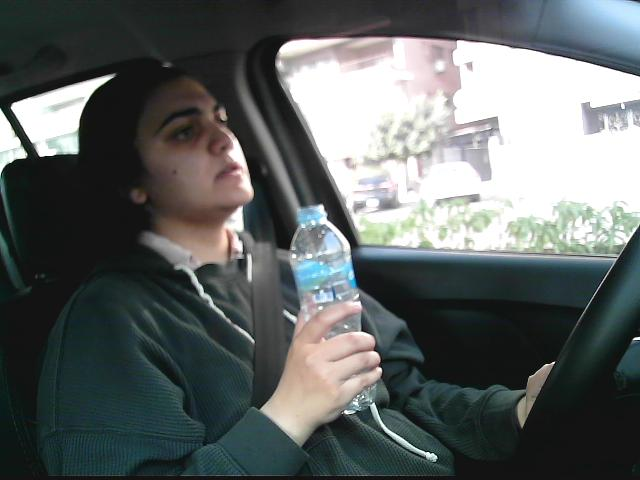Drinking: (278, 200, 381, 420)
